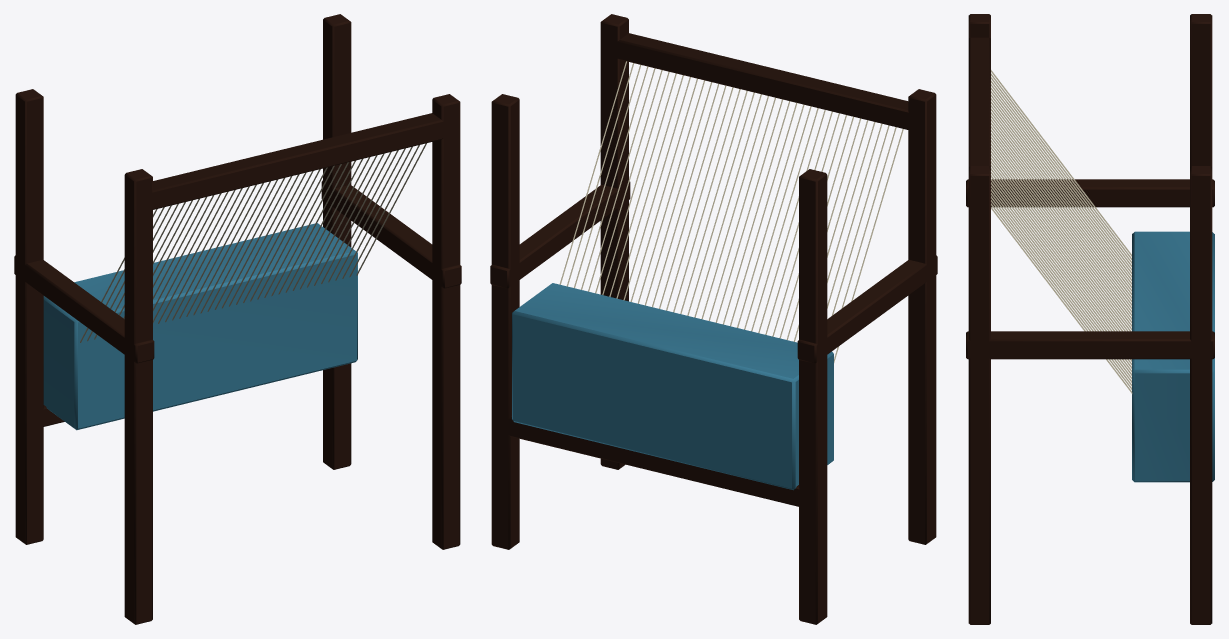
File: mall-loom-display.glb
The picture shows the model from 3 angles, left to right: view 1: azimuth 30°, elevation 25°; view 2: azimuth 150°, elevation 25°; view 3: azimuth 270°, elevation 25°; orthographic projection.
Parts seen in each view (by area): view 1: frame__wood, cloth__fabric, threads__fabric; view 2: frame__wood, cloth__fabric, threads__fabric; view 3: frame__wood, threads__fabric, cloth__fabric.
Boxes of the visible parts, <box> form: frame__wood: <box>14,14,461,624</box>; cloth__fabric: <box>43,223,357,430</box>; threads__fabric: <box>80,143,426,342</box>; frame__wood: <box>490,14,937,624</box>; cloth__fabric: <box>512,283,833,490</box>; threads__fabric: <box>559,61,903,362</box>; frame__wood: <box>966,14,1214,624</box>; threads__fabric: <box>991,70,1132,393</box>; cloth__fabric: <box>1132,231,1214,482</box>.
Bounding box in the file's own units: 1.38 × 1.8 × 0.9.
